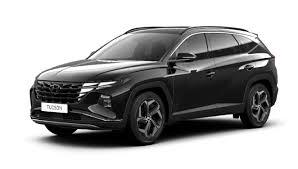hyundai: (44, 80, 62, 97)
